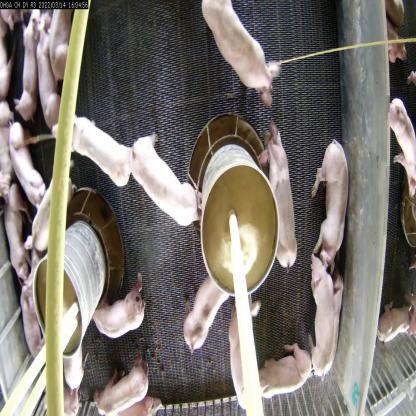Pig: (195, 0, 282, 110), (48, 102, 136, 195), (128, 122, 204, 225), (311, 119, 354, 276), (254, 345, 330, 409), (260, 119, 294, 260), (26, 4, 64, 129), (89, 338, 150, 414), (29, 164, 74, 264), (3, 106, 48, 202), (88, 278, 151, 346), (223, 304, 265, 406), (184, 270, 232, 350), (19, 10, 50, 132), (307, 242, 334, 381), (12, 253, 42, 372), (1, 203, 34, 297), (327, 304, 348, 386), (340, 272, 346, 299)
